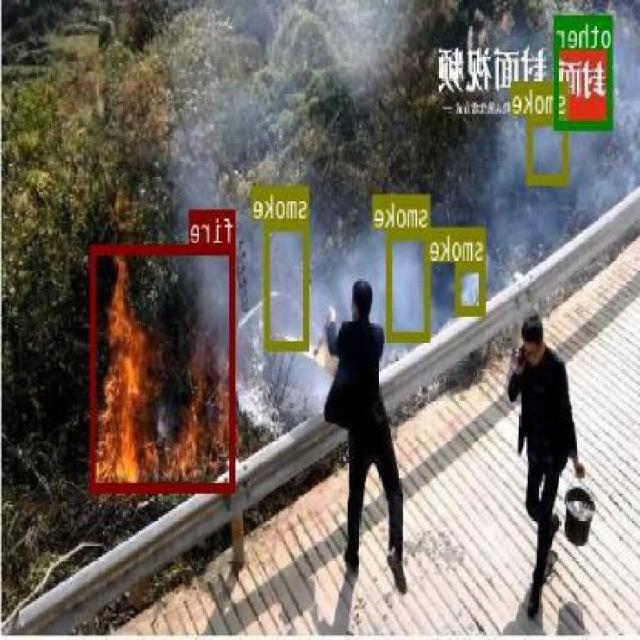Fire: (92, 244, 237, 490)
Smoke: (319, 2, 411, 96), (266, 218, 311, 349), (484, 191, 576, 254), (388, 228, 430, 341), (528, 114, 570, 183), (457, 260, 486, 312)
